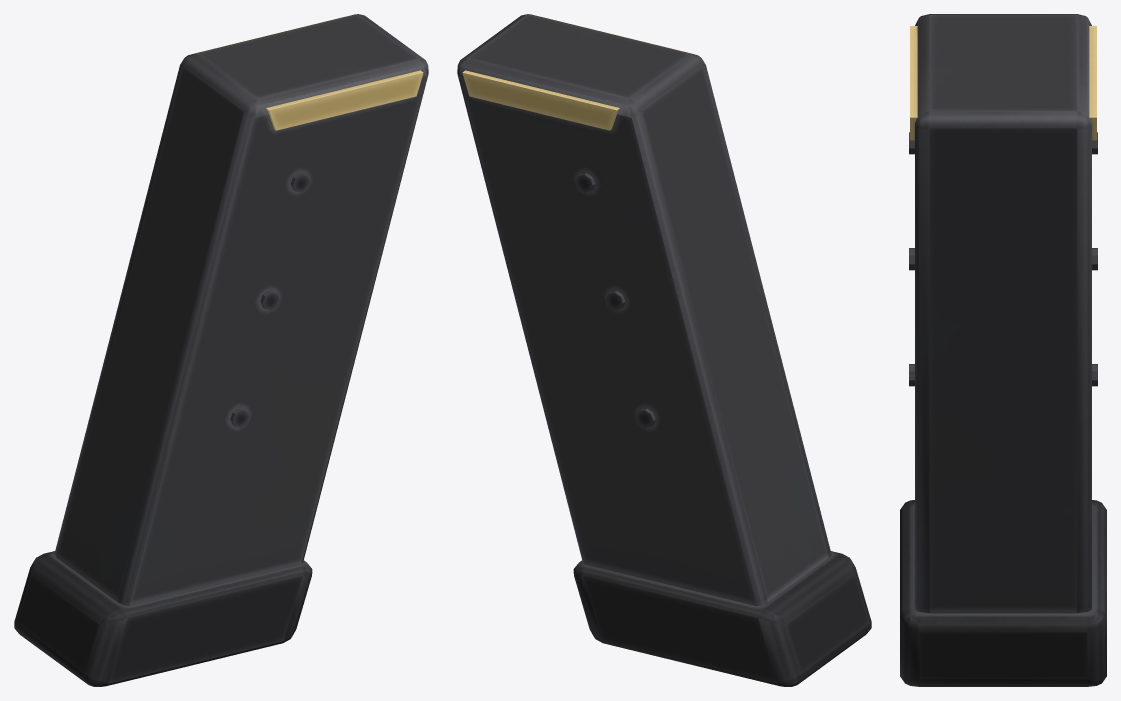
Rendered from AT_MD34Mag.fbx.
3 renders of one model, left to right at view 1: azimuth 30°, elevation 25°; view 2: azimuth 150°, elevation 25°; view 3: azimuth 270°, elevation 25°, orthographic. The views are drawn at different scales.
Visible parts, largest first — view 1: AT_MD34Mag; view 2: AT_MD34Mag; view 3: AT_MD34Mag.
Boxes of the visible parts, bbox=[...] form: AT_MD34Mag: bbox=[14, 14, 428, 686]; AT_MD34Mag: bbox=[457, 14, 871, 686]; AT_MD34Mag: bbox=[900, 14, 1106, 686].
Bounding box in the file's own units: 0.0492 × 0.074 × 0.021.
Materials: 1 (1 with a texture image).
